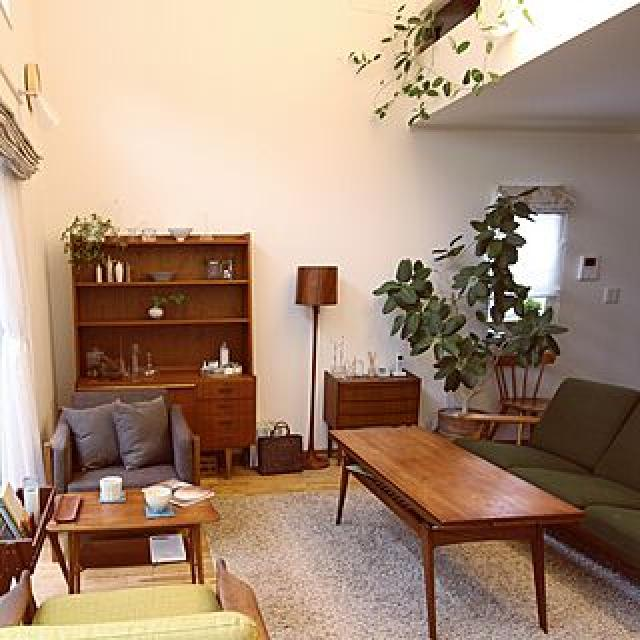vintage desk: (319, 427, 593, 640)
vintage shelf: (57, 229, 263, 471)
